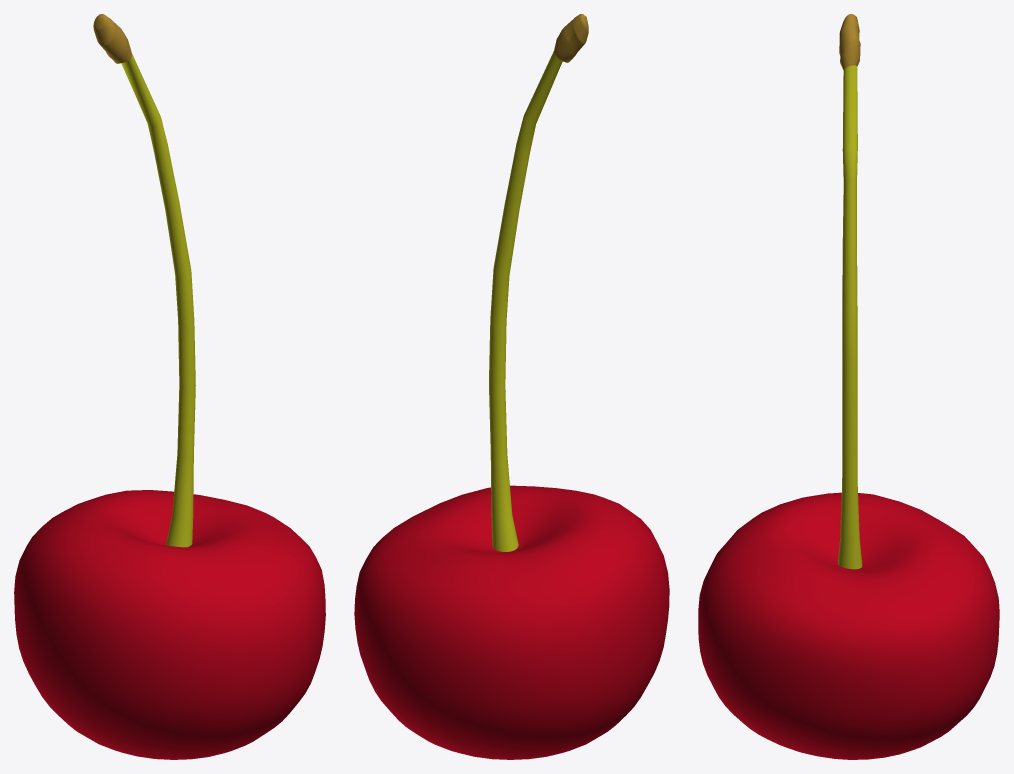
The model's file is cherry_rotating.fbx.
3 views of the same model, side by side, from view 1: azimuth 30°, elevation 25°; view 2: azimuth 150°, elevation 25°; view 3: azimuth 270°, elevation 25° (orthographic). The views are drawn at different scales.
Visible parts, largest first — view 1: cherry; view 2: cherry; view 3: cherry.
Boxes of the visible parts, x1,y1,x2,y2 form: cherry: (14,14,325,759); cherry: (354,14,669,759); cherry: (698,14,999,759).
Size of the model in its own units: 185 by 494 by 194.
